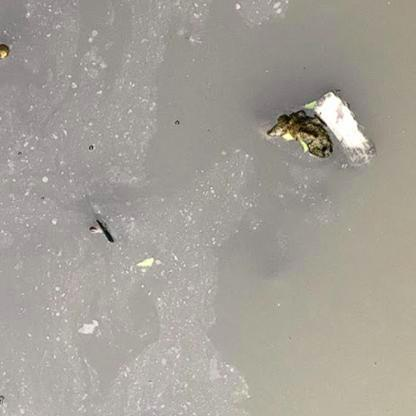Plastic: (312, 89, 378, 166)
